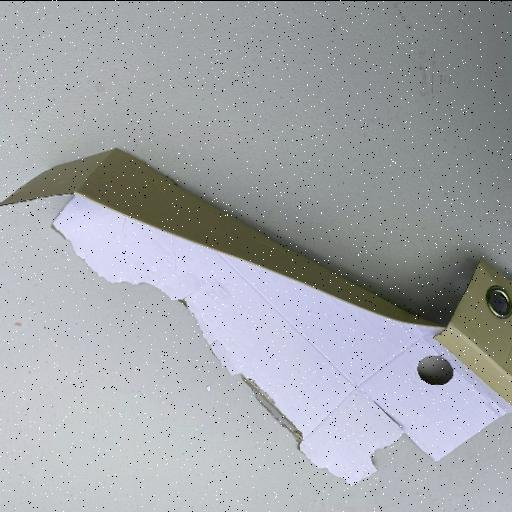Cardboard: (2, 144, 509, 486)
